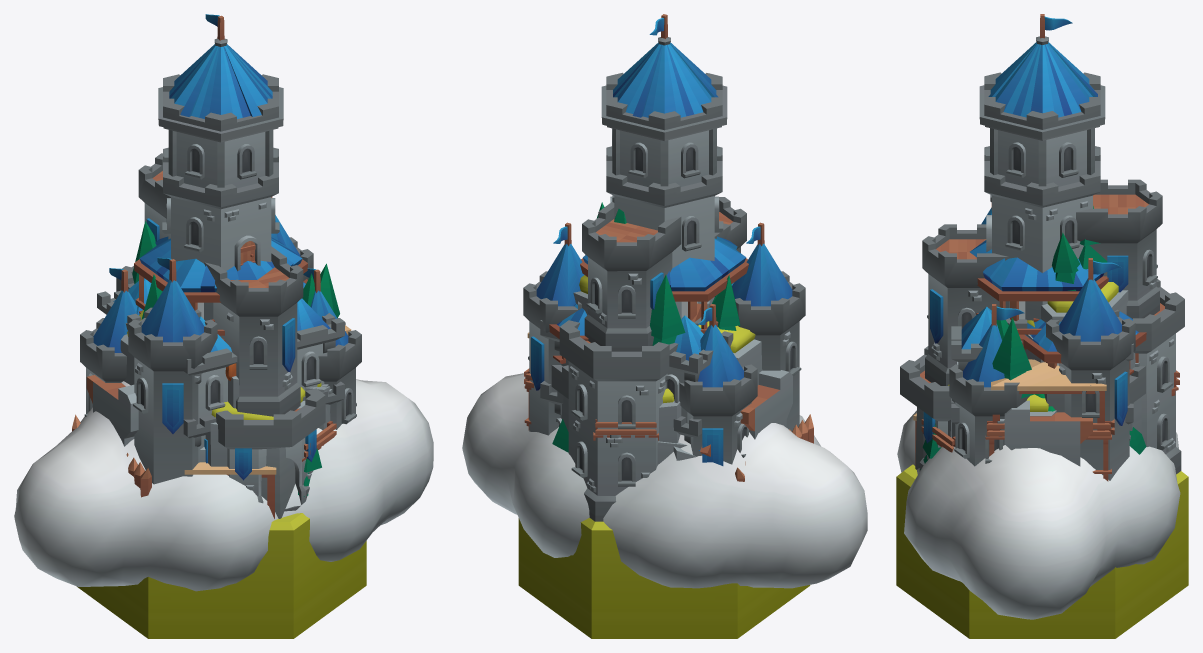
The model's file is world.glb.
3 renders of one model, left to right at view 1: azimuth 30°, elevation 25°; view 2: azimuth 150°, elevation 25°; view 3: azimuth 270°, elevation 25°, orthographic.
Visible parts, largest first — view 1: building_castle_blue, cloud_big, hex_grass, building_barracks_blue, building_tower_B_top_blue, mountain_C_grass, wall_straight, mountain_A_grass_trees, building_scaffolding, fence_wood_straight; view 2: building_castle_blue, cloud_big, hex_grass, building_tower_B_top_blue, building_barracks_blue, mountain_A_grass_trees, wall_straight, mountain_C_grass, building_archeryrange_blue, building_scaffolding, mountain_B_grass_trees; view 3: building_castle_blue, cloud_big, hex_grass, building_tower_B_top_blue, building_scaffolding, wall_straight, mountain_B_grass_trees, building_archeryrange_blue, building_barracks_blue, mountain_A_grass_trees, mountain_C_grass, trees_A_large.
Boxes of the visible parts, <box> form: building_castle_blue: <box>80,14,361,511</box>; cloud_big: <box>14,379,433,591</box>; hex_grass: <box>77,513,366,638</box>; building_barracks_blue: <box>97,278,344,463</box>; building_tower_B_top_blue: <box>134,236,307,341</box>; mountain_C_grass: <box>120,310,330,518</box>; wall_straight: <box>86,375,138,446</box>; mountain_A_grass_trees: <box>132,221,339,430</box>; building_scaffolding: <box>184,325,351,518</box>; fence_wood_straight: <box>72,414,151,497</box>; building_castle_blue: <box>523,14,805,521</box>; cloud_big: <box>462,373,867,588</box>; hex_grass: <box>518,518,810,638</box>; building_tower_B_top_blue: <box>580,236,748,333</box>; building_barracks_blue: <box>540,283,733,443</box>; mountain_A_grass_trees: <box>650,274,740,465</box>; wall_straight: <box>740,370,792,439</box>; mountain_C_grass: <box>562,321,762,443</box>; building_archeryrange_blue: <box>549,303,710,456</box>; building_scaffolding: <box>524,332,658,440</box>; mountain_B_grass_trees: <box>561,202,717,464</box>; building_castle_blue: <box>900,14,1184,480</box>; cloud_big: <box>897,410,1180,619</box>; hex_grass: <box>896,464,1188,638</box>; building_tower_B_top_blue: <box>970,240,1108,349</box>; building_scaffolding: <box>913,359,1179,481</box>; wall_straight: <box>1004,400,1092,466</box>; mountain_B_grass_trees: <box>996,206,1135,416</box>; building_archeryrange_blue: <box>1019,311,1146,440</box>; building_barracks_blue: <box>951,307,1133,424</box>; mountain_A_grass_trees: <box>952,318,1035,403</box>; mountain_C_grass: <box>915,384,1141,469</box>; trees_A_large: <box>919,424,1146,469</box>.
Size of the model in its own units: 3.61 by 4.98 by 2.31.
1 material, 1 textured.
